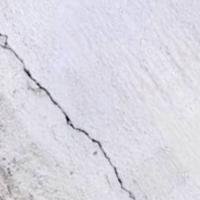crack: (0, 27, 137, 199)
